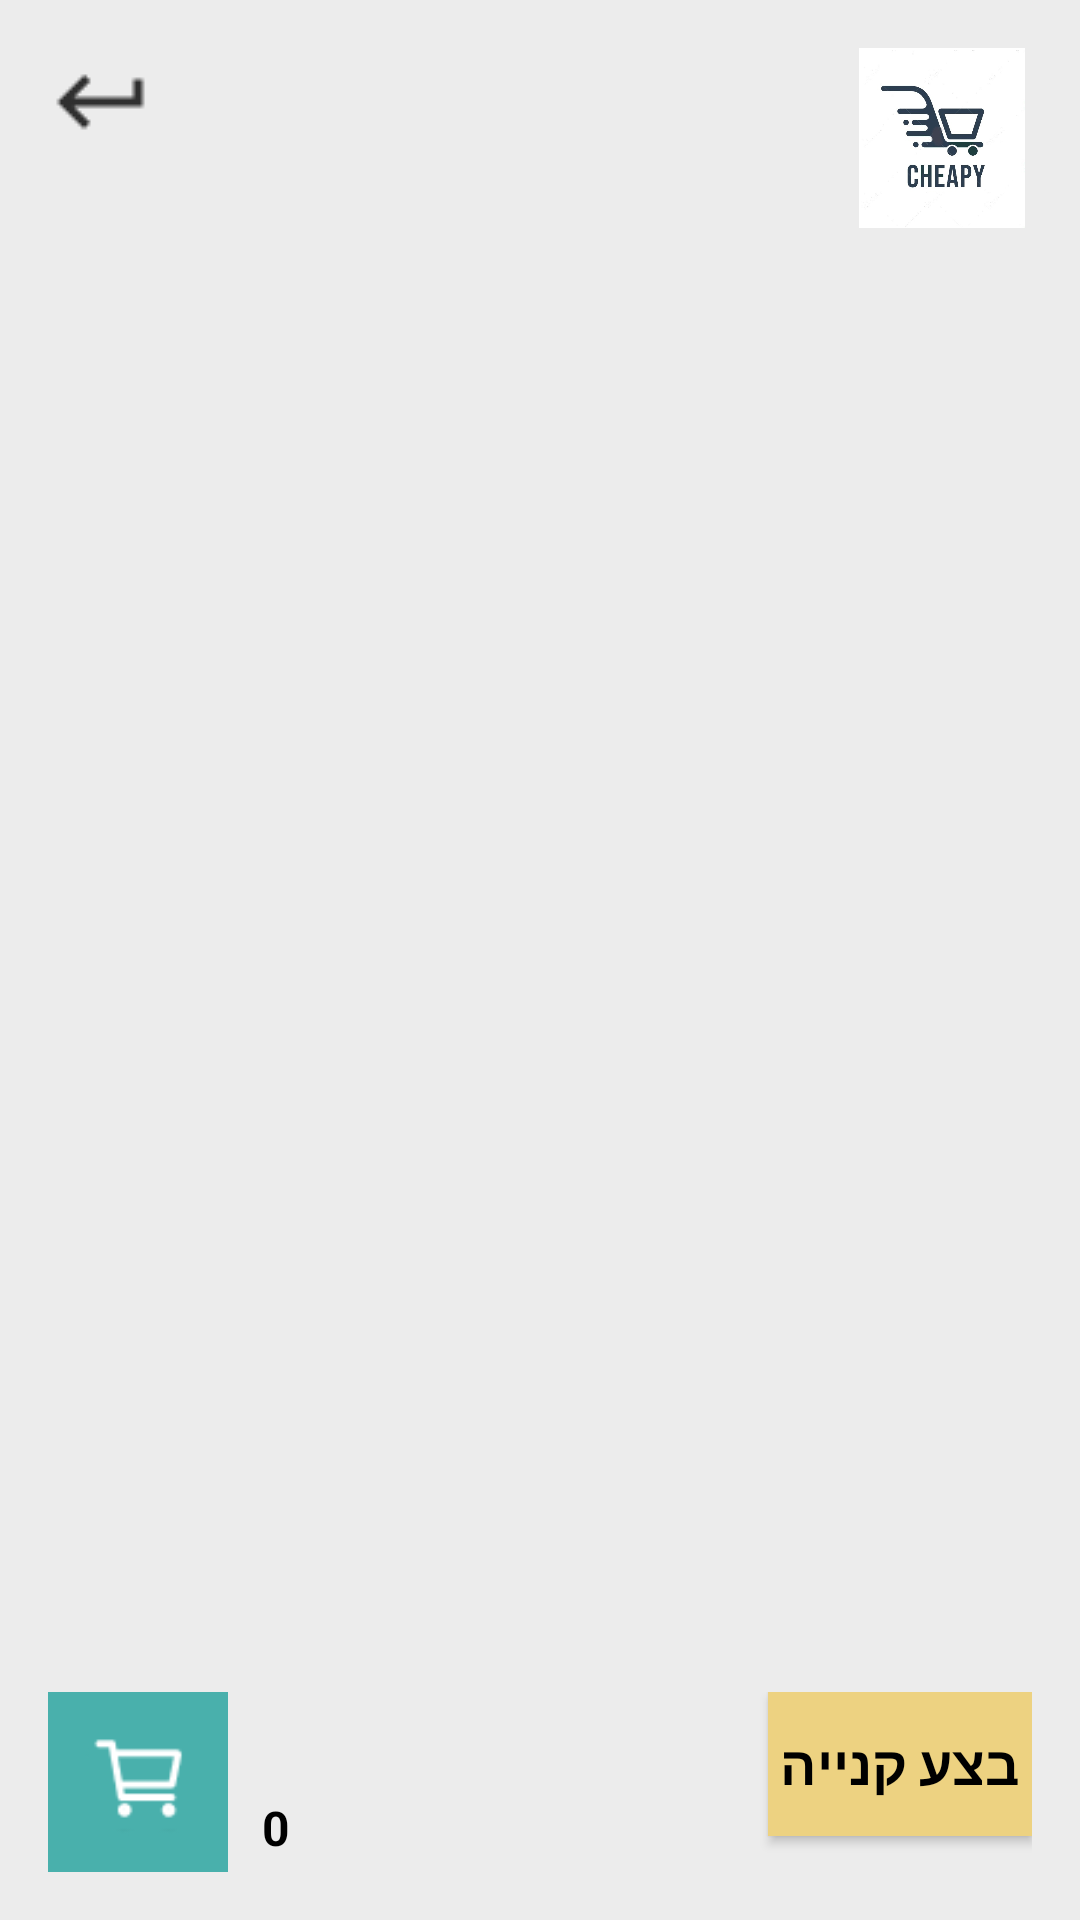

Screen size 1080×1920. Icon name, then its box in pixels as (x1, y1, x2, y2):
return: (57, 74, 145, 129)
מספר מוצרים: (94, 1739, 182, 1818)
